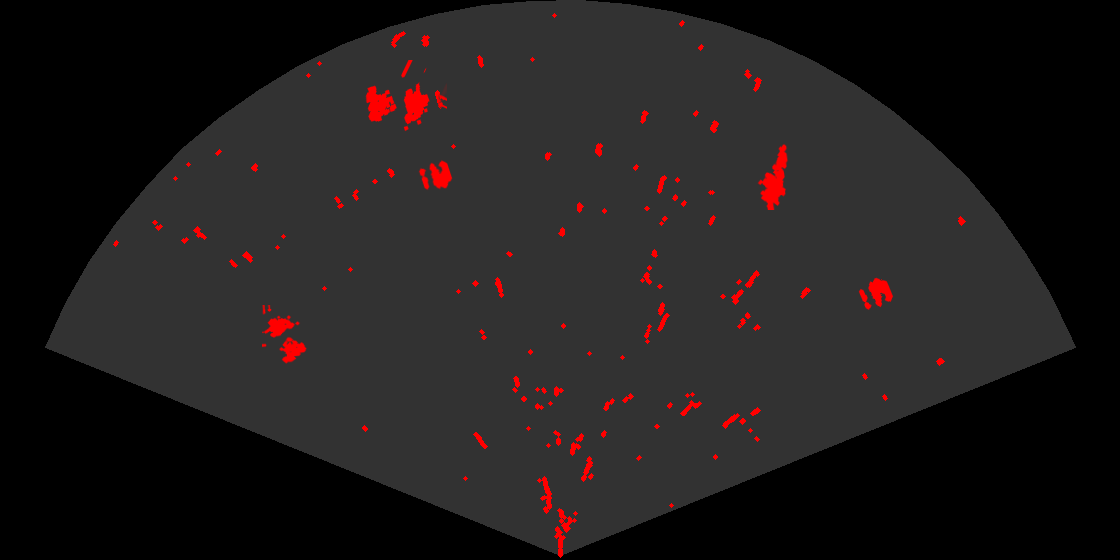ball: (857, 276, 895, 311), (417, 158, 454, 192)
cage: (364, 60, 447, 133), (262, 305, 308, 365)
frogman: (756, 142, 790, 210)
